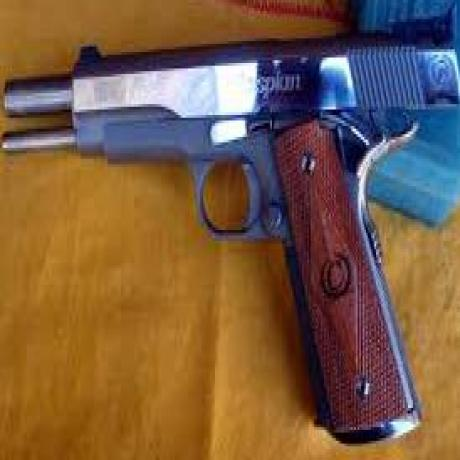weapon: (0, 16, 460, 448)
